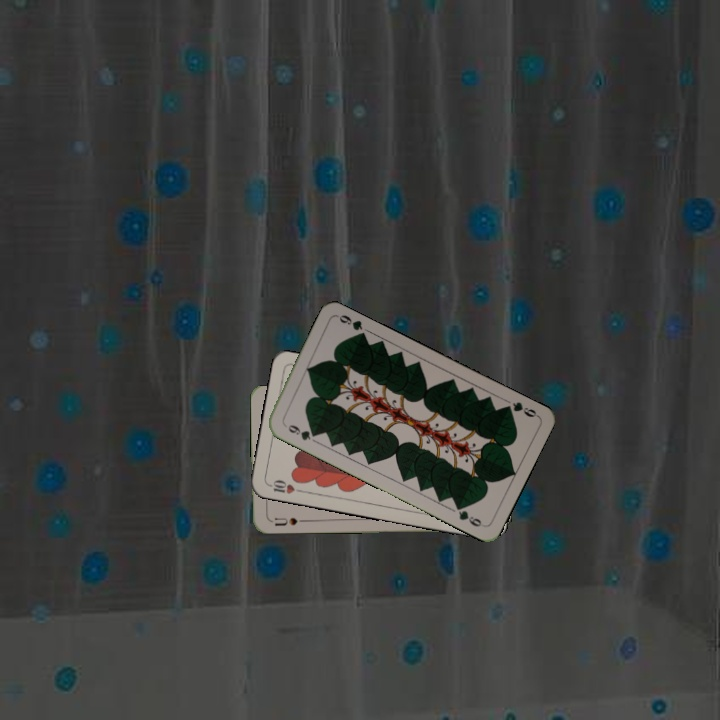G9: (499, 398, 541, 420), (284, 421, 320, 443)
H10: (264, 476, 305, 496)
SU: (266, 514, 300, 528)
